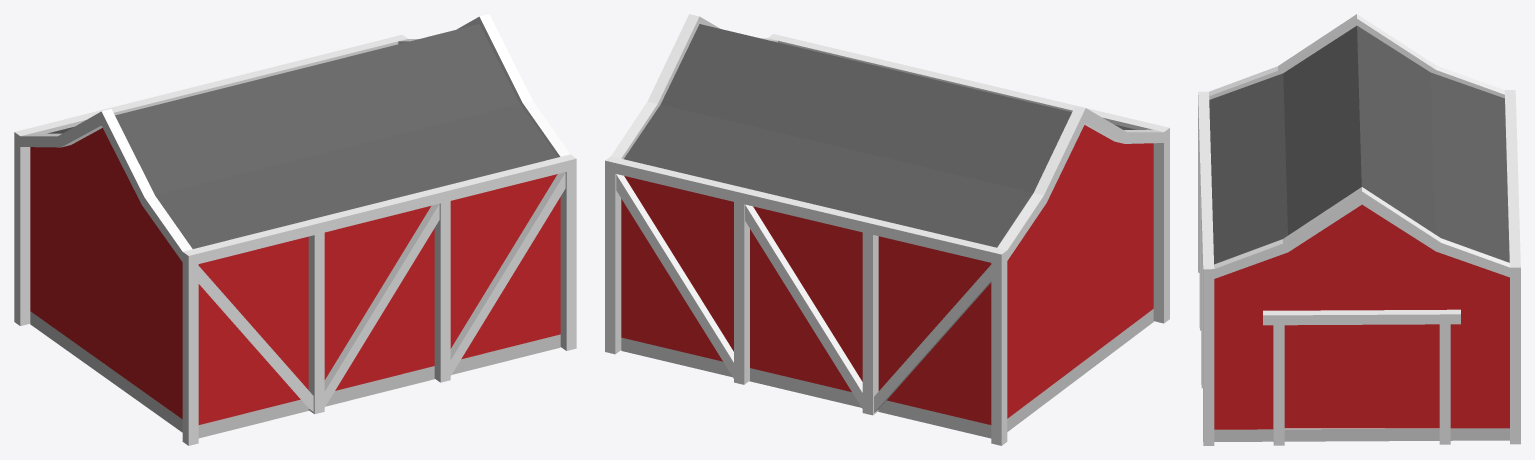
Rendered from barn.fbx.
3 views of the same model, side by side, from view 1: azimuth 30°, elevation 25°; view 2: azimuth 150°, elevation 25°; view 3: azimuth 270°, elevation 25° (orthographic). The views are drawn at different scales.
Visible parts, largest first — view 1: Cube.001, Cube.336, Cube.000, Cube.003; view 2: Cube.001, Cube.336, Cube.000, Cube.003; view 3: Cube.001, Cube.336, Cube.000, Cube.003.
Boxes of the visible parts, x1,y1,x2,y2 form: Cube.001: [30, 128, 560, 424]; Cube.336: [47, 24, 557, 248]; Cube.000: [14, 14, 576, 445]; Cube.003: [30, 311, 560, 438]; Cube.001: [621, 125, 1153, 424]; Cube.336: [624, 24, 1136, 247]; Cube.000: [605, 14, 1169, 445]; Cube.003: [621, 309, 1153, 438]; Cube.001: [1214, 204, 1509, 429]; Cube.336: [1209, 26, 1509, 264]; Cube.000: [1198, 14, 1520, 445]; Cube.003: [1214, 428, 1509, 441].
Bounding box in the file's own units: 3.11 × 2.06 × 2.37.
